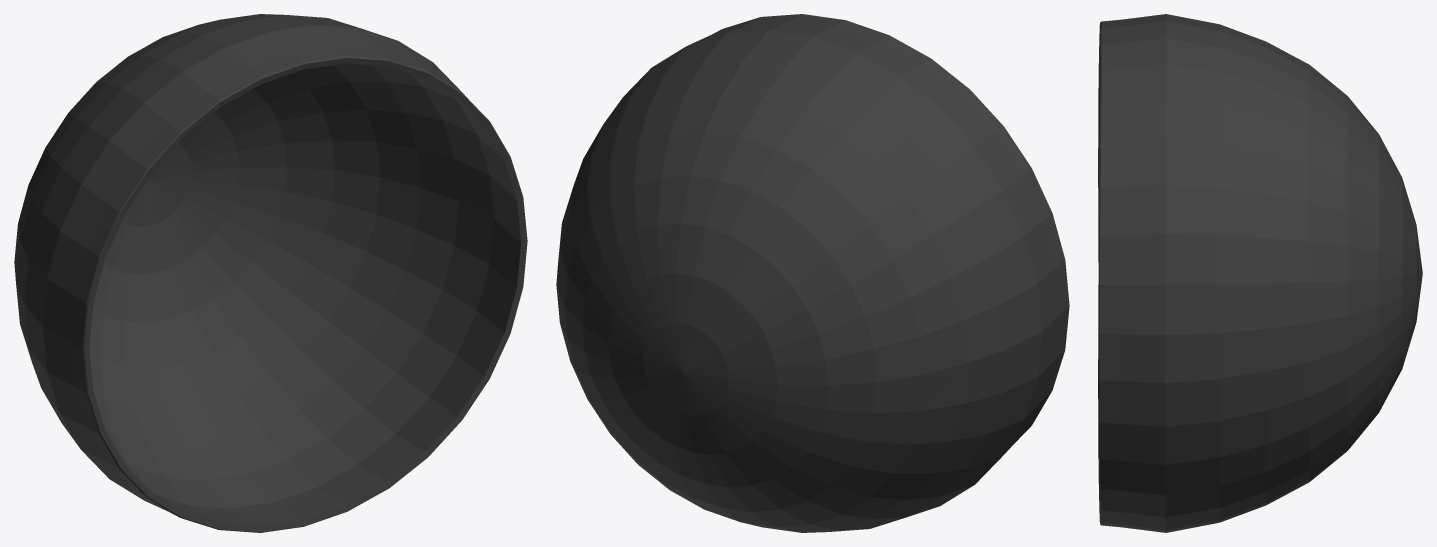
File: PRE.glb
The picture shows the model from 3 angles, left to right: view 1: azimuth 30°, elevation 25°; view 2: azimuth 150°, elevation 25°; view 3: azimuth 270°, elevation 25°; orthographic projection.
Parts seen in each view (by area): view 1: PRE; view 2: PRE; view 3: PRE.
Part boxes in pixels (x1,y1,x2,y2): PRE: (14,14,527,532); PRE: (556,14,1069,532); PRE: (1098,14,1422,532).
Size of the model in its own units: 1.82 by 1.82 by 1.14.
1 material, 1 textured.
